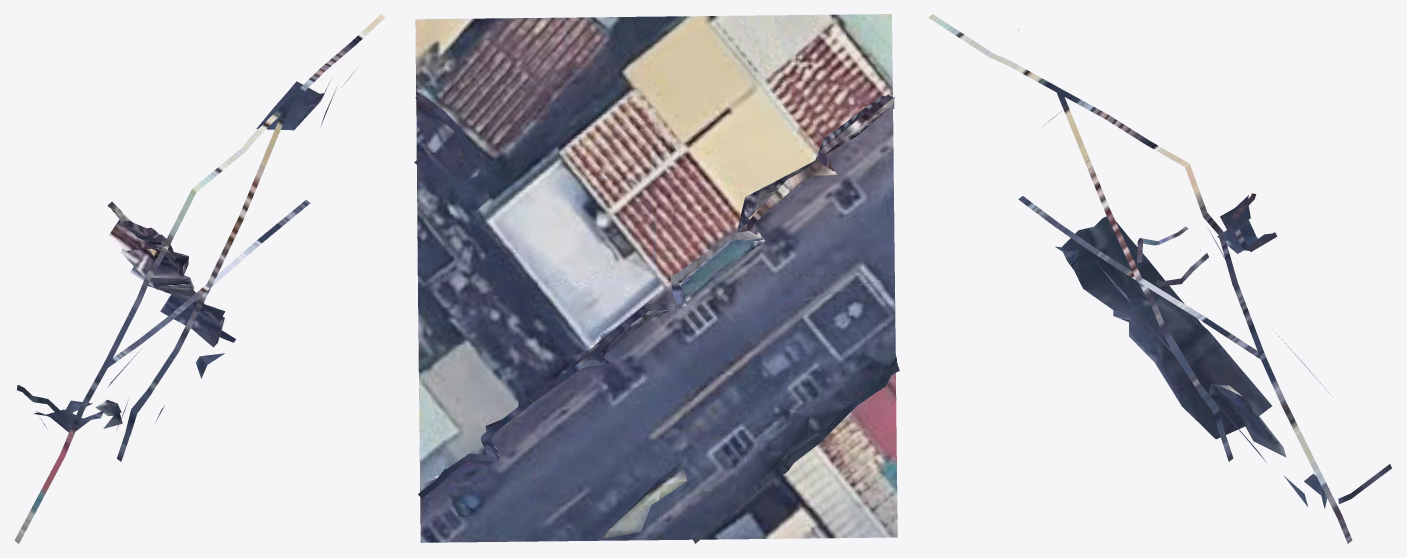
3 renders of one model, left to right at view 1: azimuth 30°, elevation 25°; view 2: azimuth 150°, elevation 25°; view 3: azimuth 270°, elevation 25°, orthographic. The views are drawn at different scales.
Bounding box in the file's own units: 37.39 × 35.46 × 35.39.
1 material, 1 textured.
